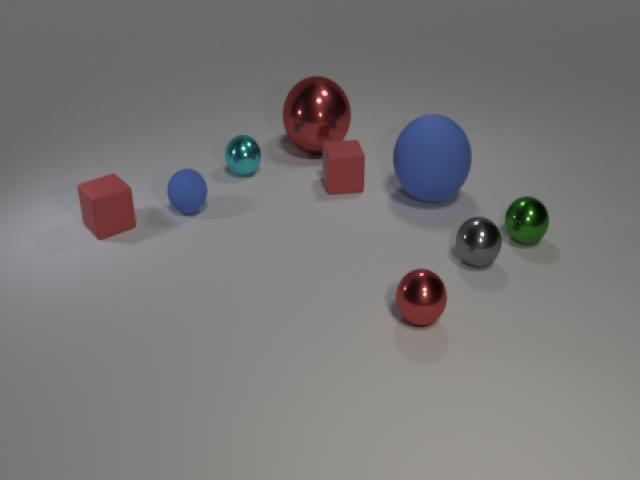round ball: (388, 105, 474, 209), (276, 70, 358, 159), (392, 264, 452, 329), (449, 211, 505, 271), (501, 191, 556, 248), (164, 164, 212, 222), (222, 129, 264, 185)
